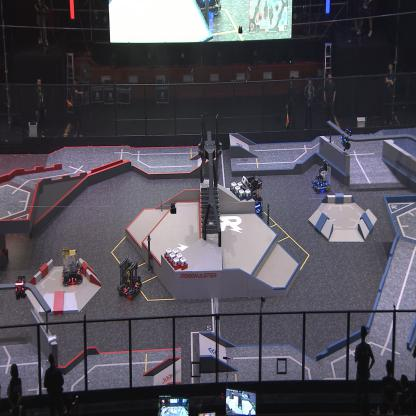car: (117, 258, 142, 300), (60, 245, 83, 286), (244, 174, 264, 219), (312, 159, 332, 193)
